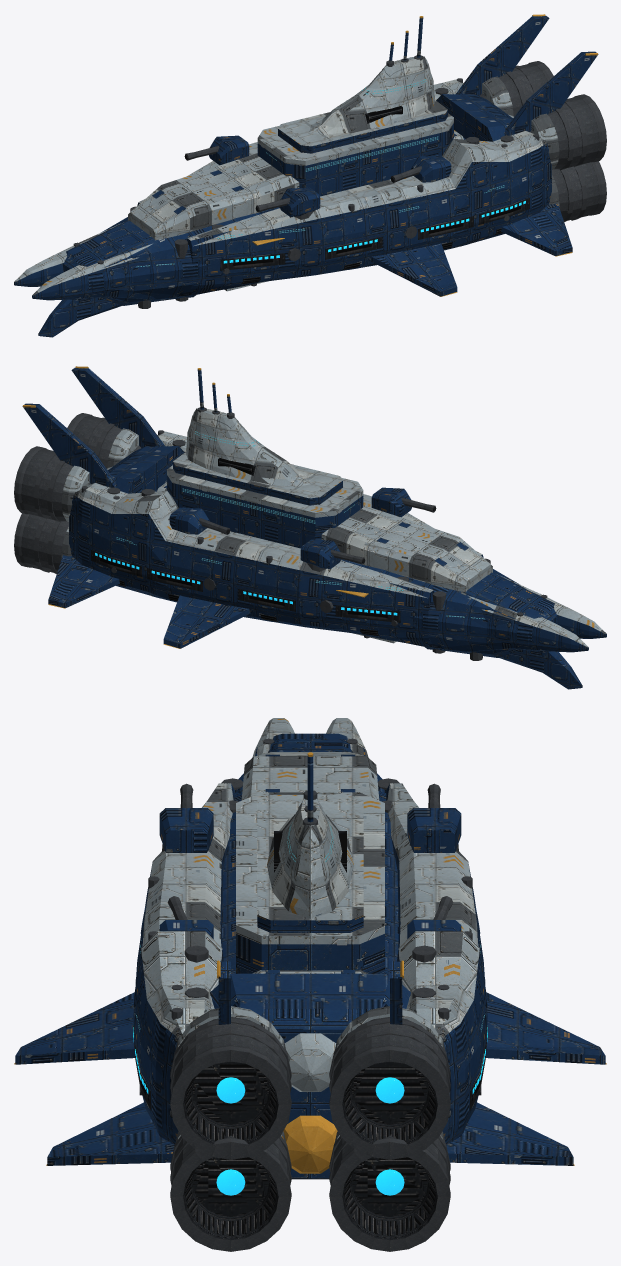
File: concord-battleship.glb
The picture shows the model from 3 angles, top to bottom: view 1: azimuth 30°, elevation 25°; view 2: azimuth 150°, elevation 25°; view 3: azimuth 270°, elevation 25°; orthographic projection. The views are drawn at different scales.
Parts seen in each view (by area): view 1: Concord Battleship · angular bridge and ventral hangar; view 2: Concord Battleship · angular bridge and ventral hangar; view 3: Concord Battleship · angular bridge and ventral hangar.
Part boxes in pixels (x1,y1,x2,y2): Concord Battleship · angular bridge and ventral hangar: [14, 14, 606, 337]; Concord Battleship · angular bridge and ventral hangar: [14, 366, 606, 689]; Concord Battleship · angular bridge and ventral hangar: [14, 718, 606, 1251].
Size of the model in its own units: 1.99 by 0.7974 by 1.07.
4 materials, 3 textured.
